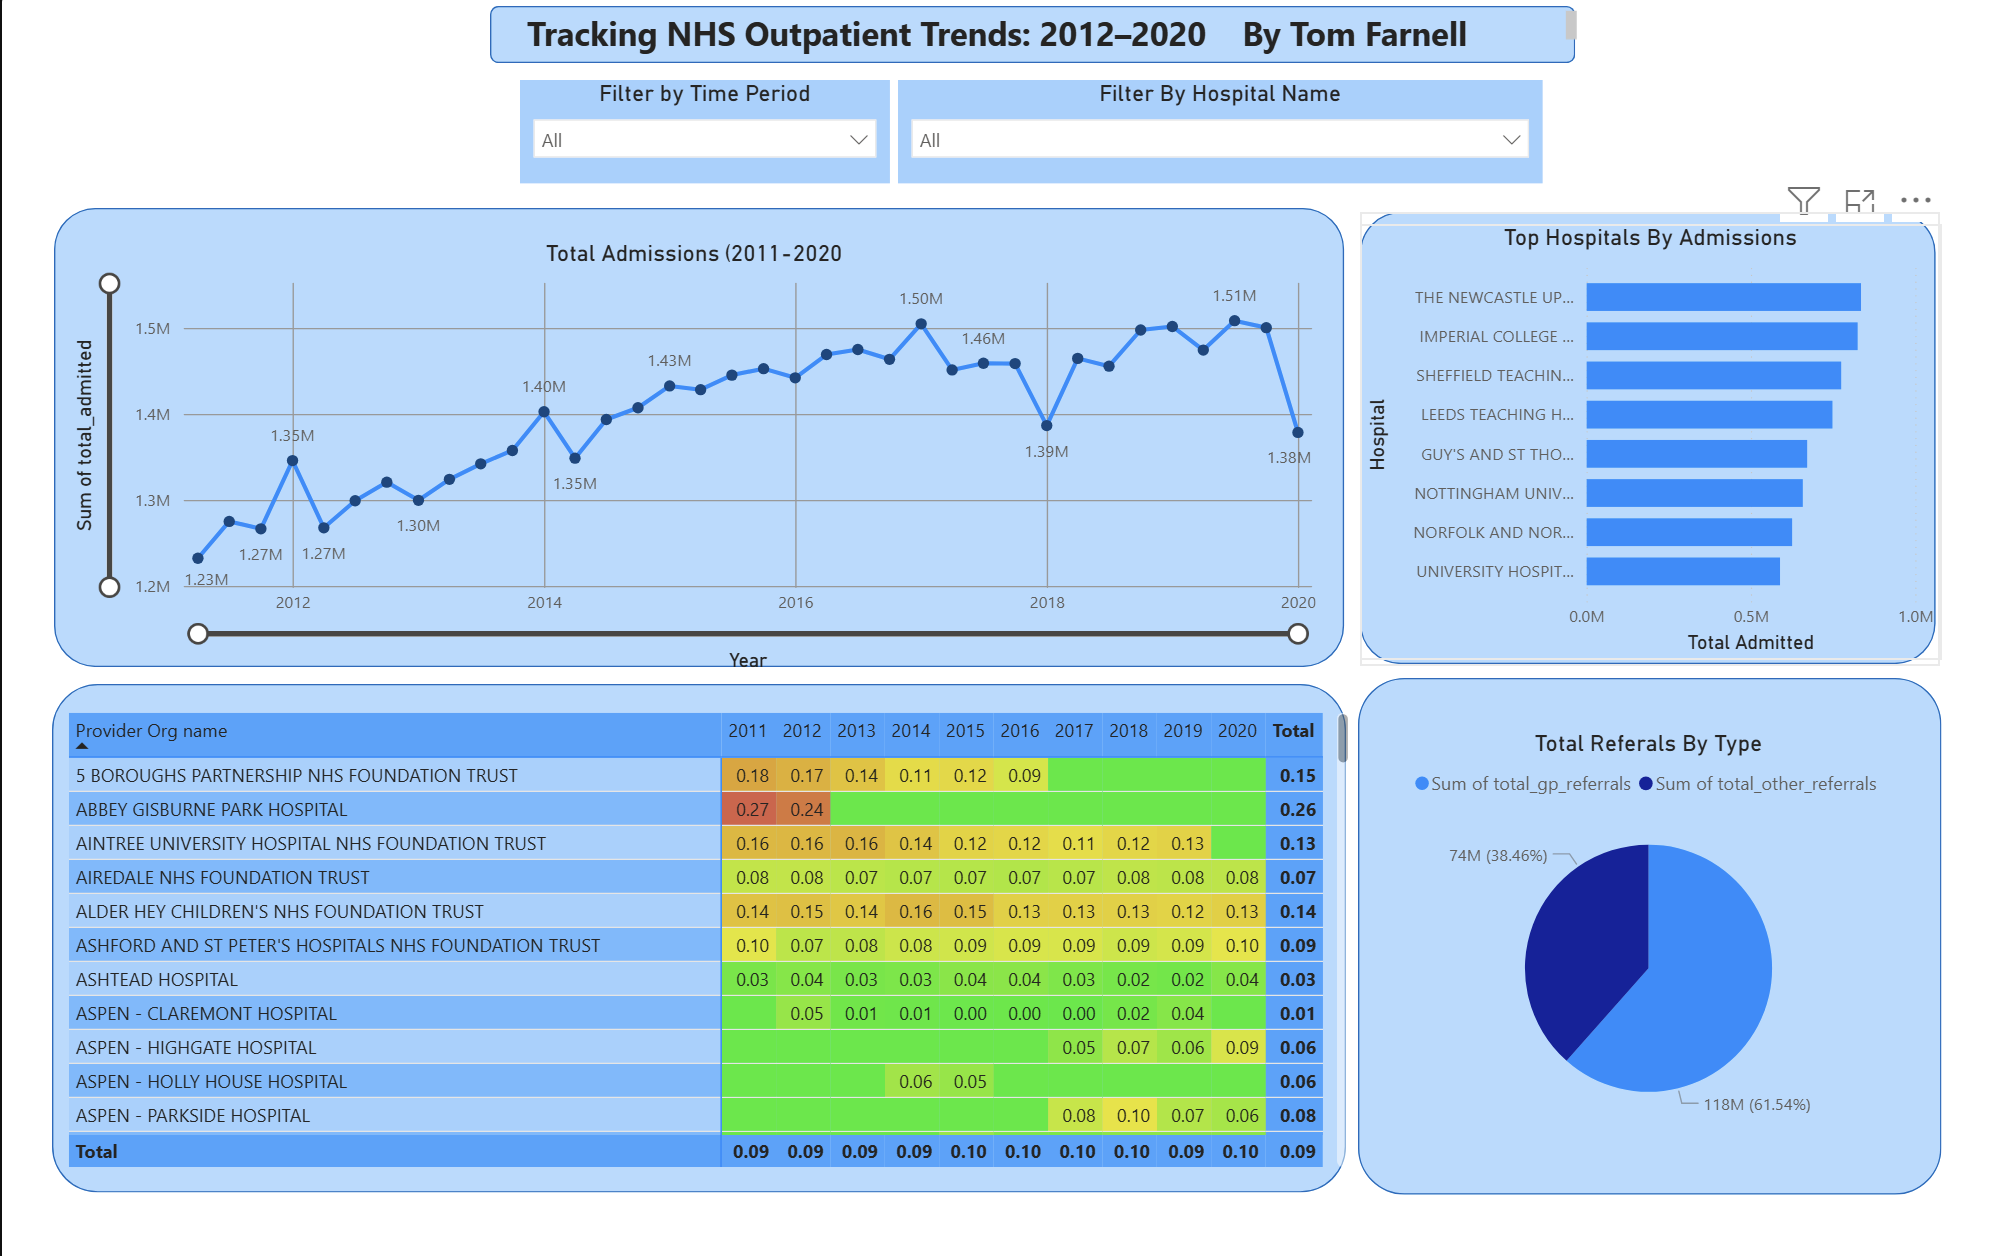

What the dashboard file says about the page in this screenshot:
{"tool":"powerbi","page":{"name":"Page 1","canvas":[1600,1200],"ordinal":0},"visuals":[{"type":"shape","box":[359.7,7.9,798,42],"z":0,"group":"g6"},{"type":"slicer","title":"Filter by Time Period","fields":{"Values":["nhs_dataset_with_quarters.Period.Variation.Date Hierarchy.Year","nhs_dataset_with_quarters.Period.Variation.Date Hierarchy.Quarter"]},"box":[381.5,61.7,272,76],"z":0,"group":"g2"},{"type":"group","id":"g1","title":"Group 2","box":[38.2,505.5,960,374.5],"z":0},{"type":"shape","box":[38.2,505.5,951.6,374],"z":0,"group":"g1"},{"type":"group","id":"g2","title":"Group 1","box":[381.5,5.7,782,132],"z":1000,"group":"g6"},{"type":"slicer","title":"Filter By Hospital Name","fields":{"Values":["nhs_dataset_with_quarters.Provider Org name"]},"box":[659.5,61.7,474,76],"z":1000,"group":"g2"},{"type":"shape","box":[999.5,159.5,423.5,332.7],"z":1000,"group":"g4"},{"type":"group","id":"g3","title":"Group 3","box":[998.2,501.8,429.1,380],"z":1000},{"type":"textbox","box":[381.5,5.7,782,48],"z":2000,"group":"g2"},{"type":"group","id":"g4","title":"Group 4","box":[999.5,159.5,427.3,332.7],"z":2000},{"type":"shape","box":[998.2,501.8,429.1,380],"z":2000,"group":"g3"},{"type":"group","id":"g5","title":"Group 5","box":[40,156.4,949.1,345.5],"z":3000},{"type":"shape","box":[40,156.4,949.1,337.7],"z":3000,"group":"g5"},{"type":"group","id":"g6","title":"Group 6","box":[359.7,5.7,803.8,132],"z":4000},{"type":"lineChart","title":"Total Admissions (2011-2020","fields":{"Y":["Sum(nhs_dataset_with_quarters.total_admitted)"],"Category":["nhs_dataset_with_quarters.Period.Variation.Date Hierarchy.Year","nhs_dataset_with_quarters.Period.Variation.Date Hierarchy.Quarter"]},"box":[49.3,180.5,923.8,321.3],"z":4000,"group":"g5"},{"type":"barChart","title":"Top Hospitals By Admissions","fields":{"Category":["nhs_dataset_with_quarters.Provider Org name"],"Y":["Sum(nhs_dataset_with_quarters.total_admitted)"]},"box":[999.5,168.6,427.3,320.3],"z":5000,"group":"g4"},{"type":"pivotTable","fields":{"Rows":["nhs_dataset_with_quarters.Provider Org name"],"Columns":["nhs_dataset_with_quarters.Period.Variation.Date Hierarchy.Year","nhs_dataset_with_quarters.Period.Variation.Date Hierarchy.Quarter"],"Values":["nhs_dataset_with_quarters.First DNA Rate"]},"box":[46.2,521.5,951.6,344],"z":6000,"group":"g1"},{"type":"pieChart","title":"Total Referals By Type","fields":{"Y":["Sum(nhs_dataset_with_quarters.total_gp_referrals)","Sum(nhs_dataset_with_quarters.total_other_referrals)"]},"box":[1017.9,540.3,389.1,301.8],"z":7000,"group":"g3"}]}

Visuals, with their boxes on the page's 1600x1200 design canvas (x1, y1, x2, y2). These are canvas units, not pixel positions in the 2012x1256 screenshot, which may show the page scaled, cropped or inside an application window:
shape: BBox(360, 8, 1158, 50)
"Filter by Time Period" slicer: BBox(382, 62, 654, 138)
"Group 2" group: BBox(38, 506, 998, 880)
shape: BBox(38, 506, 990, 880)
"Group 1" group: BBox(382, 6, 1164, 138)
"Filter By Hospital Name" slicer: BBox(660, 62, 1134, 138)
shape: BBox(1000, 160, 1423, 492)
"Group 3" group: BBox(998, 502, 1427, 882)
textbox: BBox(382, 6, 1164, 54)
"Group 4" group: BBox(1000, 160, 1427, 492)
shape: BBox(998, 502, 1427, 882)
"Group 5" group: BBox(40, 156, 989, 502)
shape: BBox(40, 156, 989, 494)
"Group 6" group: BBox(360, 6, 1164, 138)
"Total Admissions (2011-2020" lineChart: BBox(49, 180, 973, 502)
"Top Hospitals By Admissions" barChart: BBox(1000, 169, 1427, 489)
pivotTable - nhs_dataset_with_quarters.Provider Org name x nhs_dataset_with_quarters.Period.Variation.Date Hierarchy.Year: BBox(46, 522, 998, 866)
"Total Referals By Type" pieChart: BBox(1018, 540, 1407, 842)
